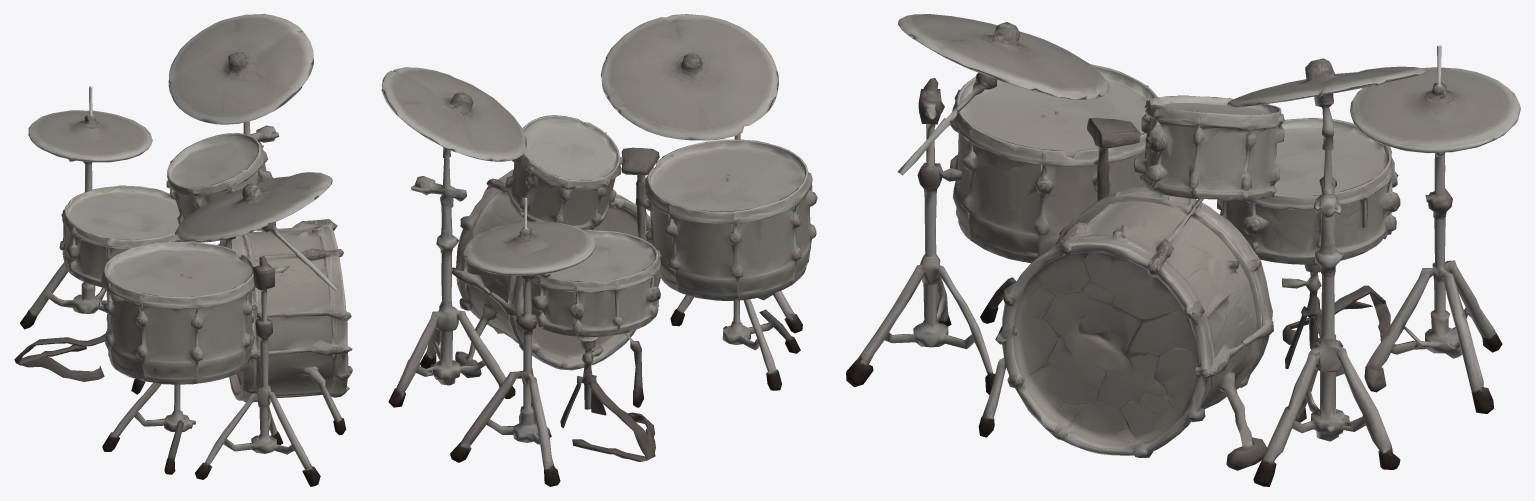
Rendered from drums.glb.
3 renders of one model, left to right at view 1: azimuth 30°, elevation 25°; view 2: azimuth 150°, elevation 25°; view 3: azimuth 270°, elevation 25°, orthographic. The views are drawn at different scales.
Parts seen in each view (by area): view 1: tripo_node_7d836168-0756-40c7-8389-4dac9b27fdba; view 2: tripo_node_7d836168-0756-40c7-8389-4dac9b27fdba; view 3: tripo_node_7d836168-0756-40c7-8389-4dac9b27fdba.
Boxes of the visible parts, x1,y1,x2,y2 form: tripo_node_7d836168-0756-40c7-8389-4dac9b27fdba: (14,14,352,486); tripo_node_7d836168-0756-40c7-8389-4dac9b27fdba: (381,14,817,486); tripo_node_7d836168-0756-40c7-8389-4dac9b27fdba: (846,14,1520,486).
Bounding box in the file's own units: 0.6788 × 0.6638 × 1.
1 material, 1 textured.
